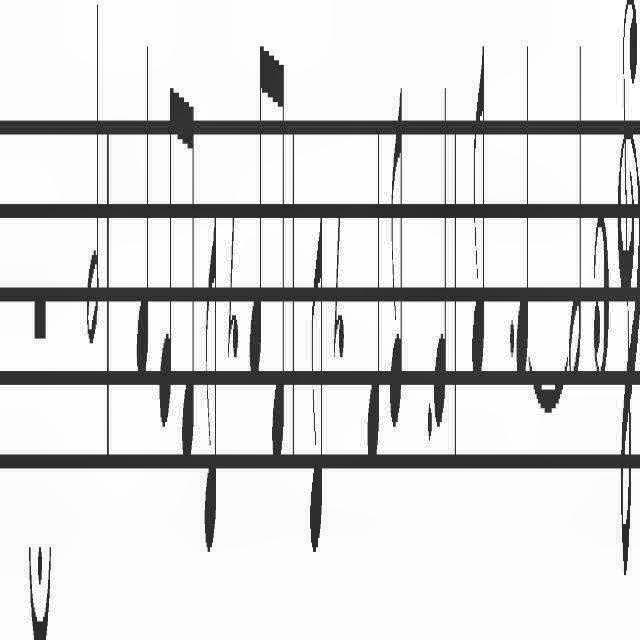Bass-clef: (618, 0, 640, 588)
Eighth-note: (160, 77, 180, 436), (250, 37, 270, 380), (270, 46, 286, 467), (388, 80, 404, 432), (182, 87, 196, 477), (203, 202, 217, 566), (310, 201, 322, 563), (472, 44, 484, 386)
Eighth-rest: (332, 200, 344, 368), (226, 207, 238, 365)
Half-note: (569, 30, 583, 386), (87, 0, 100, 352)
Quarter-note: (136, 34, 150, 393), (516, 37, 530, 387), (368, 117, 380, 479), (434, 77, 446, 433)
